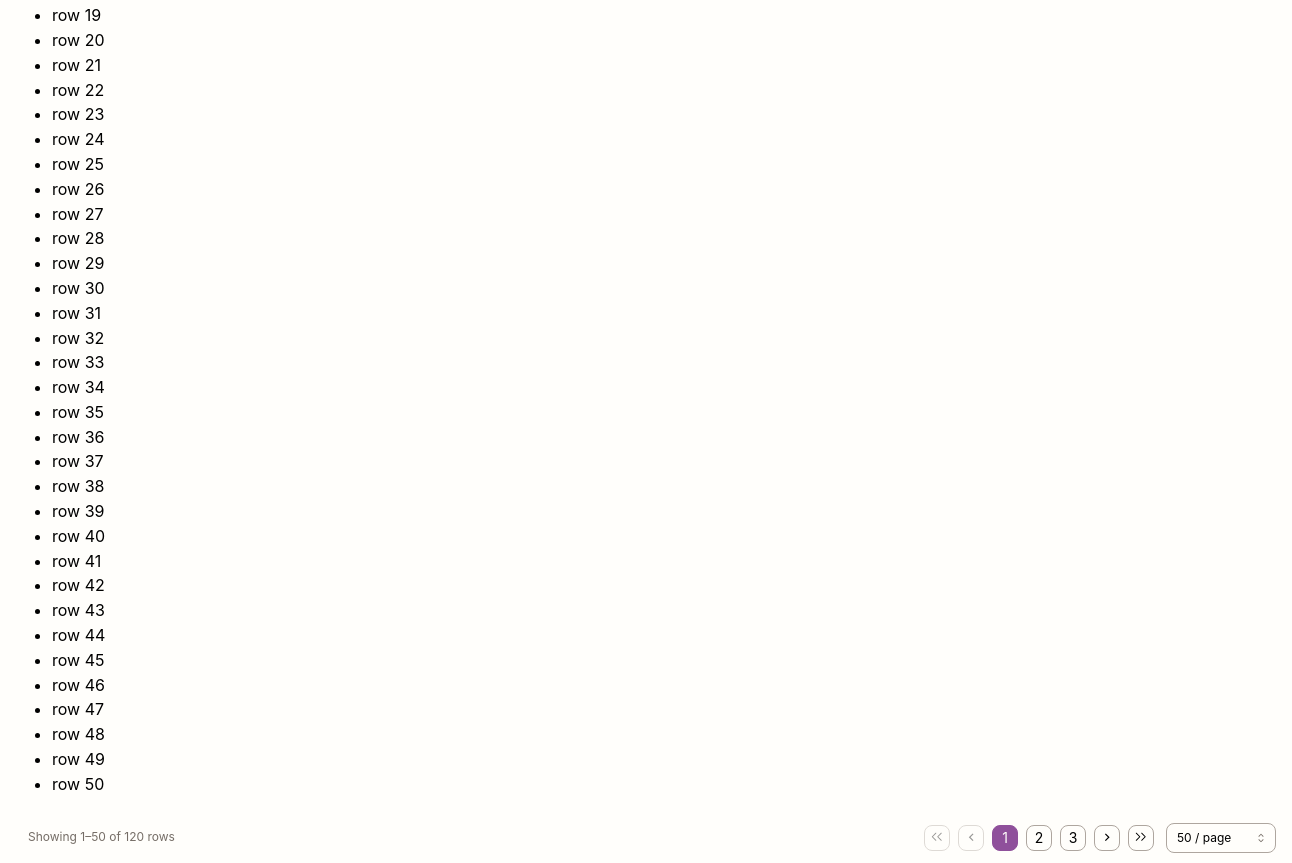
Test: TablePagination › moves the window with the page
(page scrolled)
Click the button "3" at (1073, 838), box [1060,825,1086,851]
(page scrolled)
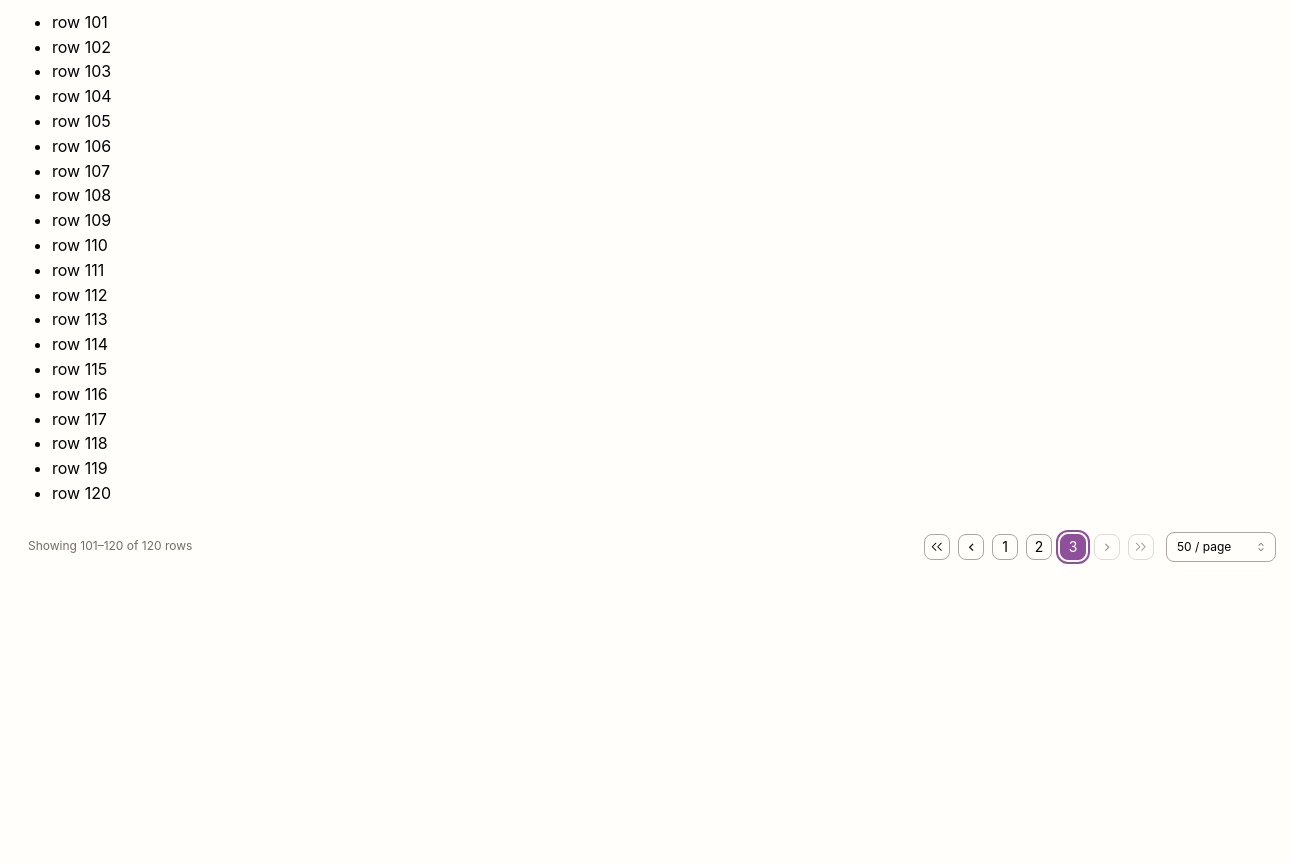
Now the list item "row 101" is shown, box [52,12,108,32]
Now the text "Showing 101–120 of 120 rows" is shown, box [28,538,192,555]
